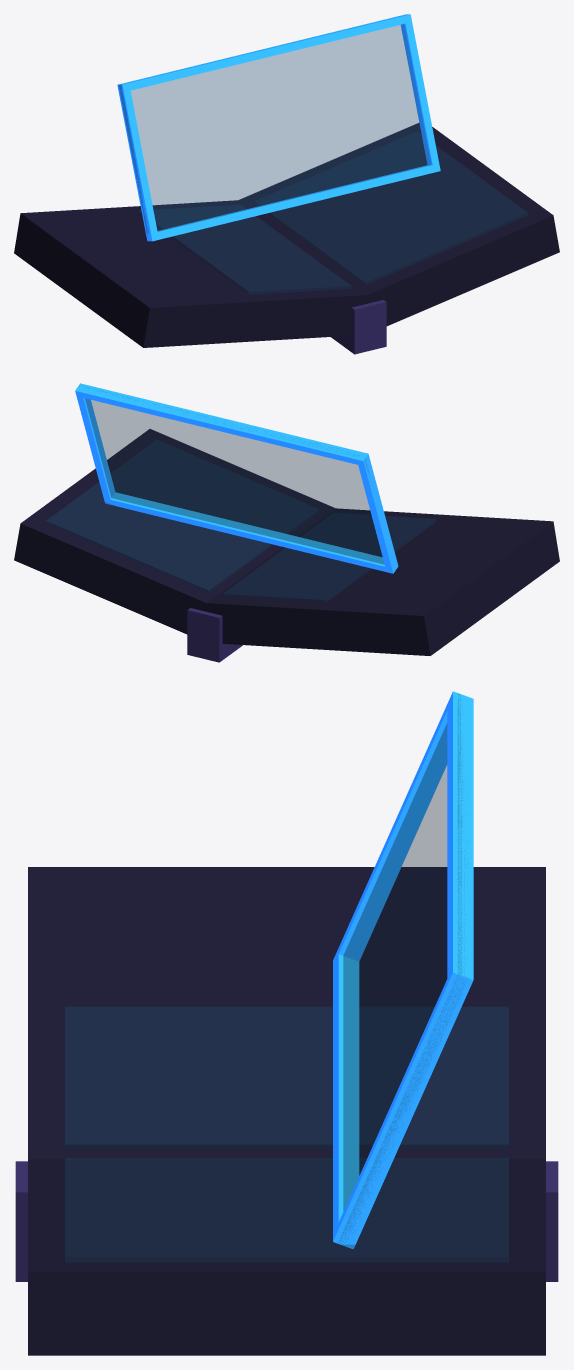
The model's file is holo_book.lod1.glb.
3 views of the same model, one above another, from view 1: azimuth 30°, elevation 25°; view 2: azimuth 150°, elevation 25°; view 3: azimuth 270°, elevation 25° (orthographic). The views are drawn at different scales.
Parts seen in each view (by area): view 1: item.holo_book.body; view 2: item.holo_book.body; view 3: item.holo_book.body.
Part boxes in pixels (bbox=[...]): item.holo_book.body: bbox=[14, 14, 559, 354]; item.holo_book.body: bbox=[14, 383, 559, 662]; item.holo_book.body: bbox=[15, 691, 558, 1355].
Size of the model in its own units: 0.5852 by 0.295 by 0.33.
